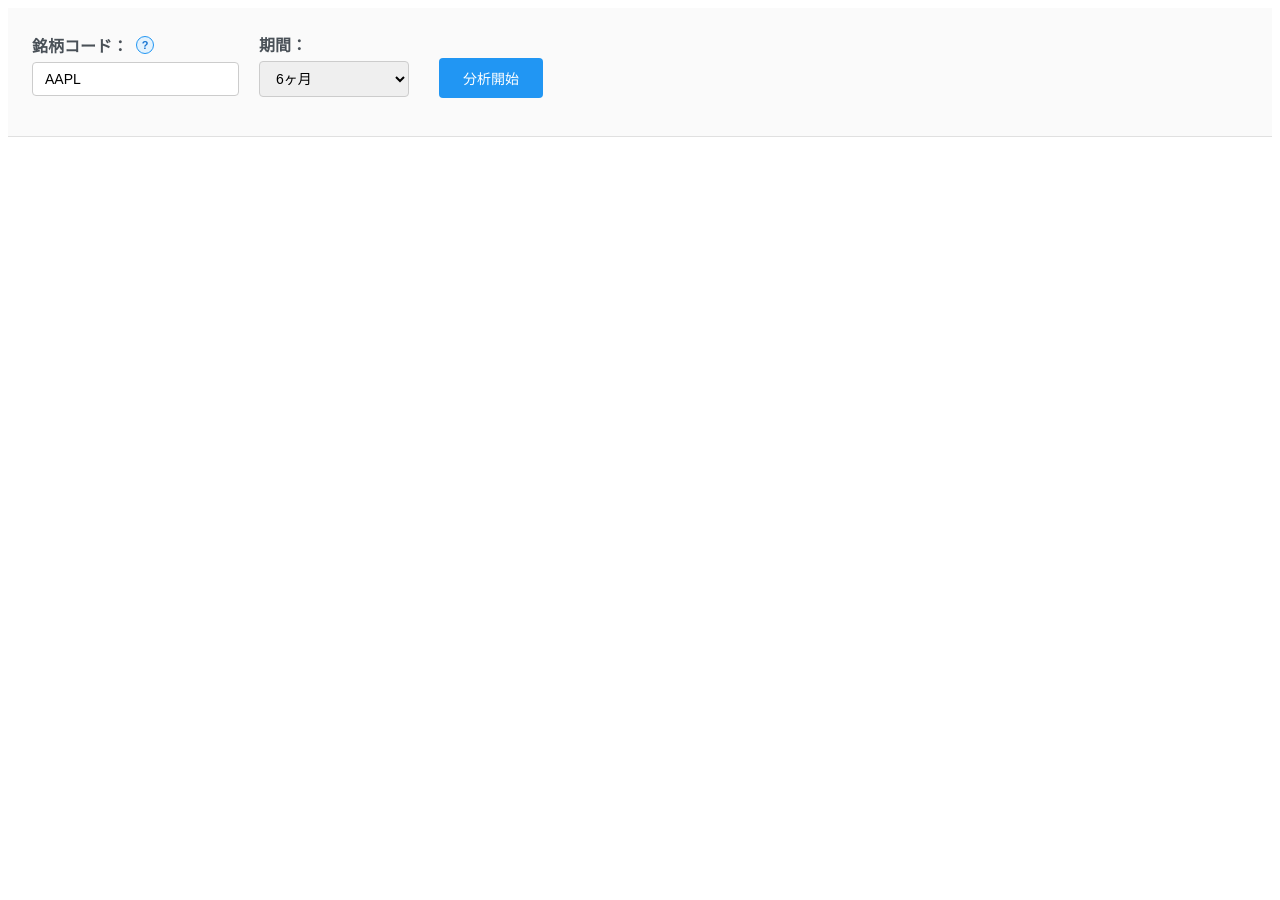
Test: StockForm › ツールチップをクリックするとヘルプテキストが表示される
The width and height of the screenshot is (1280, 900).
Step 1. Click the button named "ヘルプを表示" → (145, 45), box [136, 36, 154, 54]
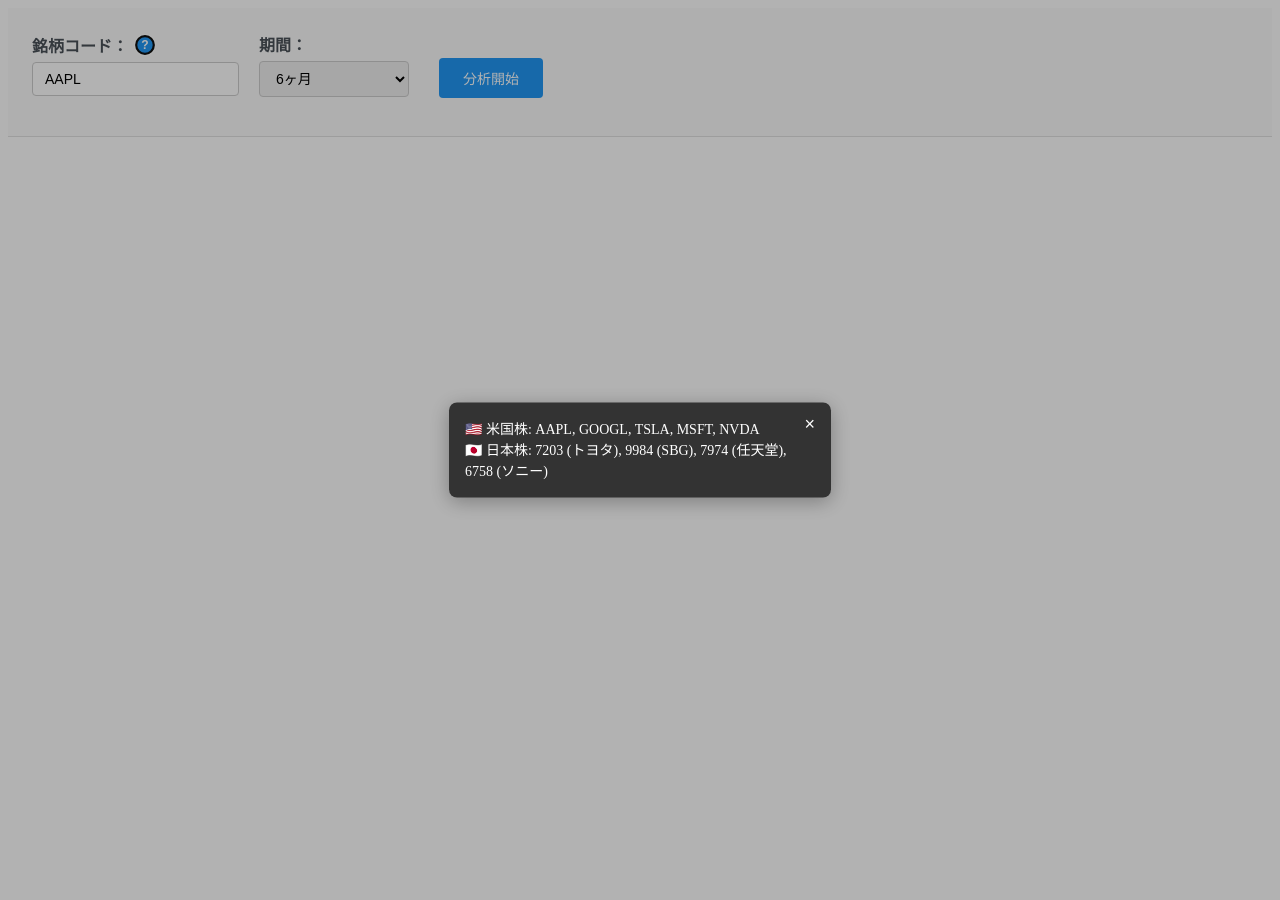
Check: the text "🇺🇸 米国株: AAPL, GOOGL, TSLA, MSFT, NVDA" is shown, box [465, 422, 760, 436]
Check: the text "🇯🇵 日本株: 7203 (トヨタ), 9984 (SBG), 7974 (任天堂), 6758 (ソニー)" is shown, box [465, 442, 787, 478]
